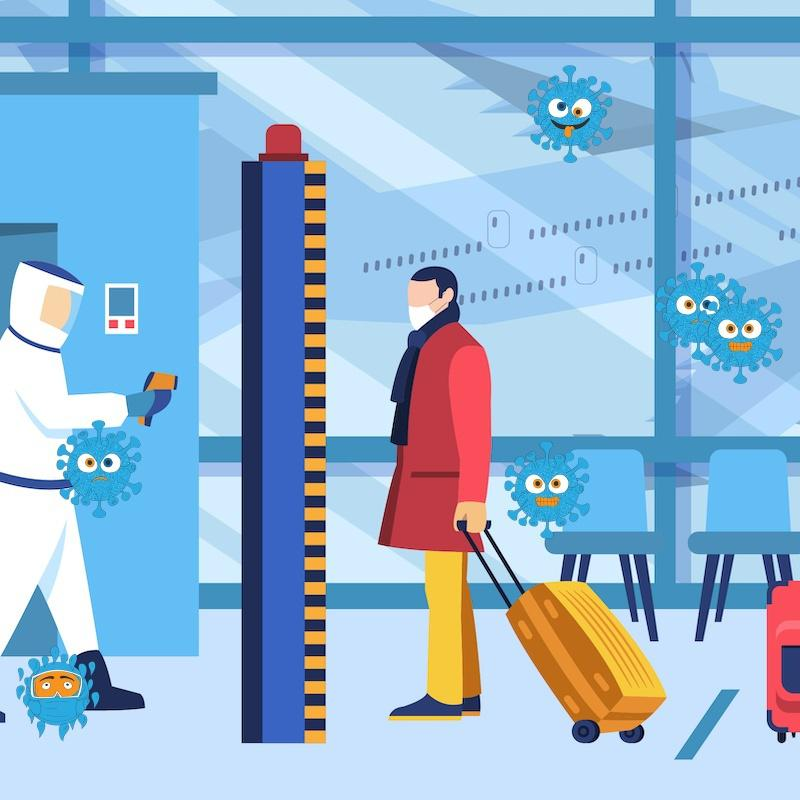corona1: (492, 438, 593, 545), (697, 283, 787, 385)
corona2: (59, 425, 146, 519), (654, 260, 732, 352)
corona3: (519, 56, 620, 173)
doctor: (16, 648, 101, 739)
